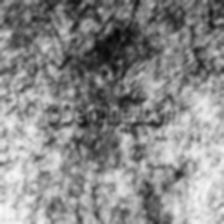Potentially Malignant Skin Tumors: (88, 58, 146, 138)
